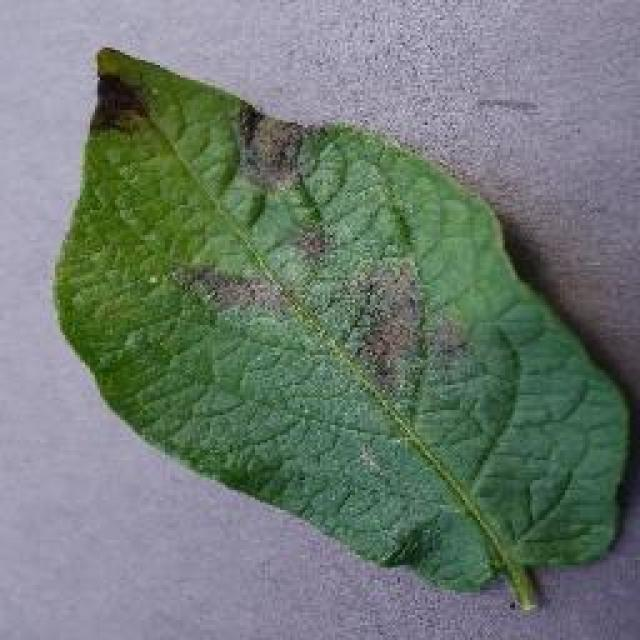late_blight: (47, 40, 635, 610)
